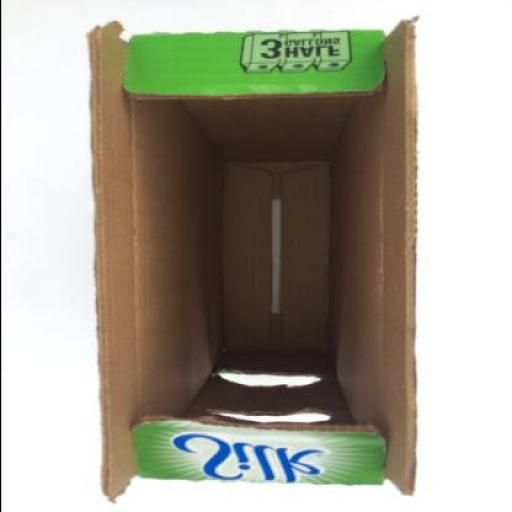cardboard: (91, 19, 416, 504)
